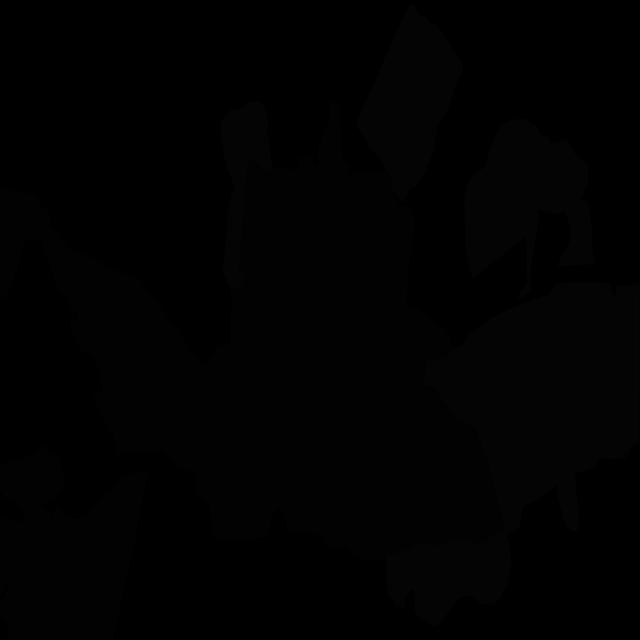cardboard: (0, 100, 503, 561), (0, 471, 148, 640), (0, 444, 66, 596)
soft_plastic: (386, 282, 640, 627), (464, 119, 594, 300), (356, 4, 462, 202), (220, 102, 272, 290)
